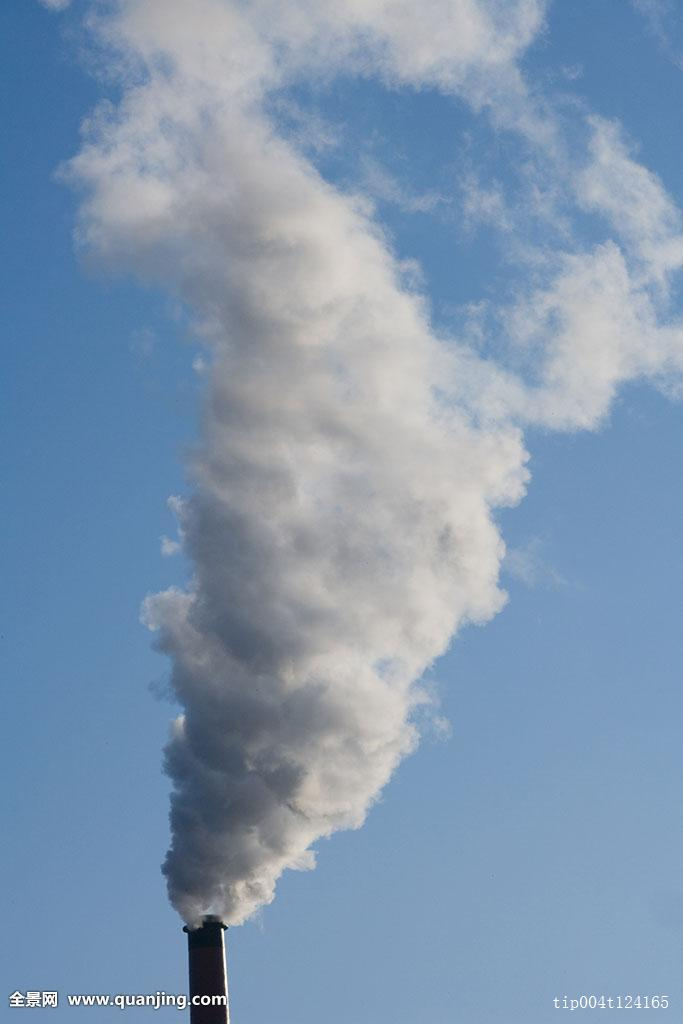dust: (114, 191, 532, 945)
